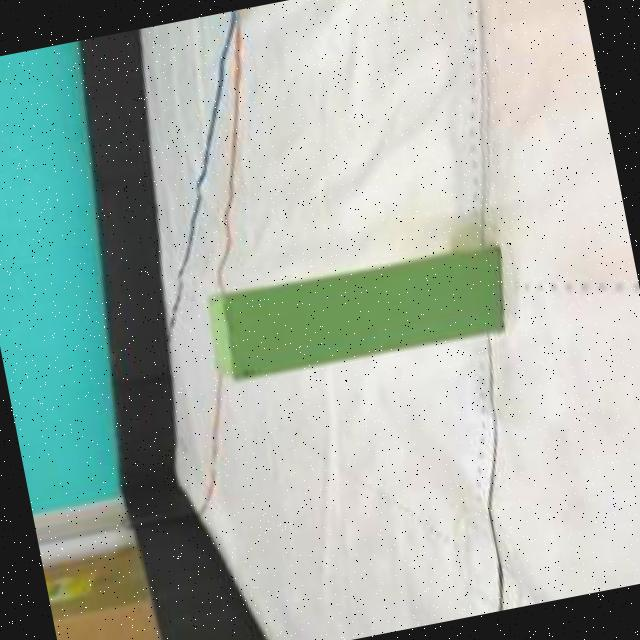greenbox: (204, 243, 514, 384)
